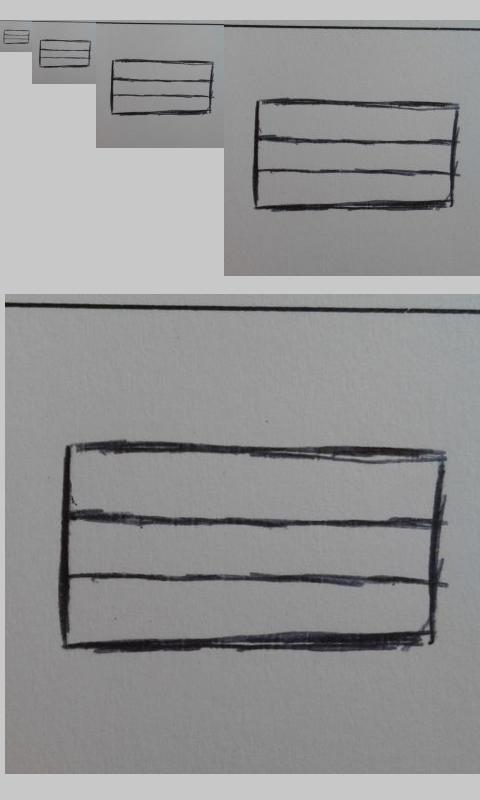list_view: (56, 441, 447, 655), (251, 97, 459, 214), (109, 57, 216, 117), (39, 39, 92, 69), (3, 29, 31, 45)
